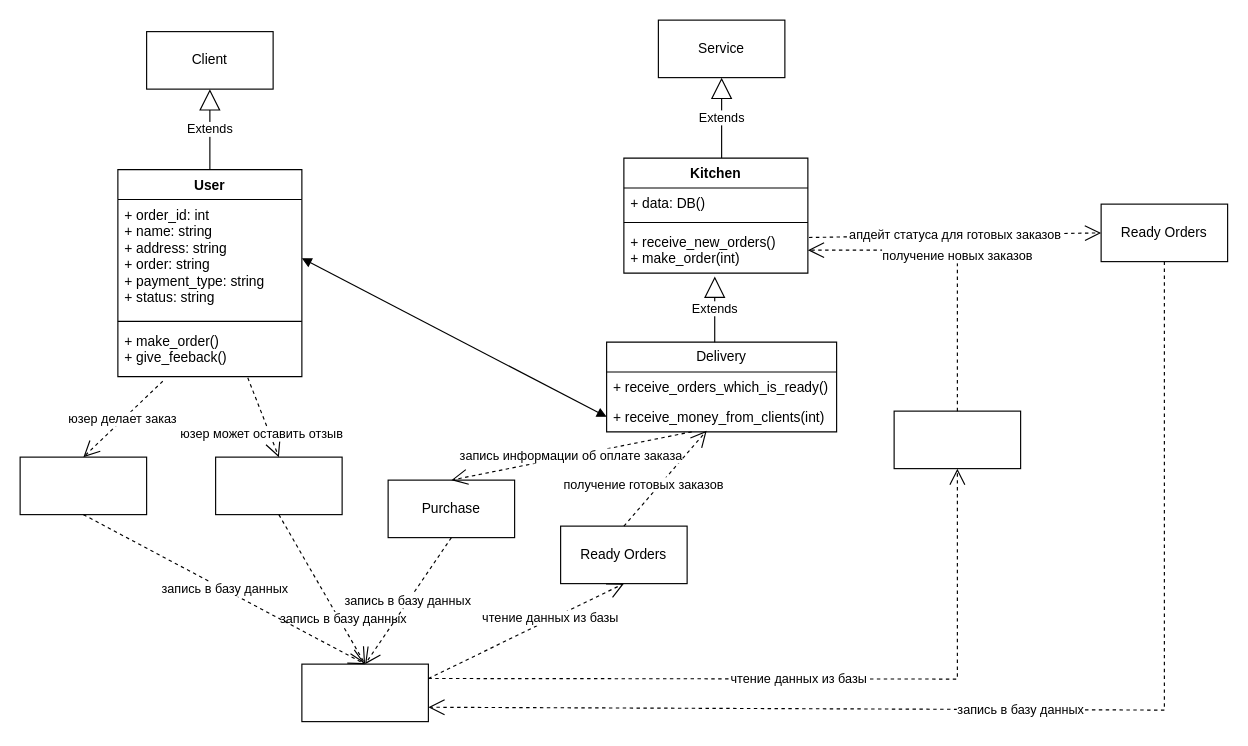
Image size: 1248x746. Some labels were removed from this diagram. The centre of each missing label's shape, as x and y in pixels:
DataBase: [364,692]
Feedback: [278,485]
New Orders: [957,439]
Order: [83,485]
